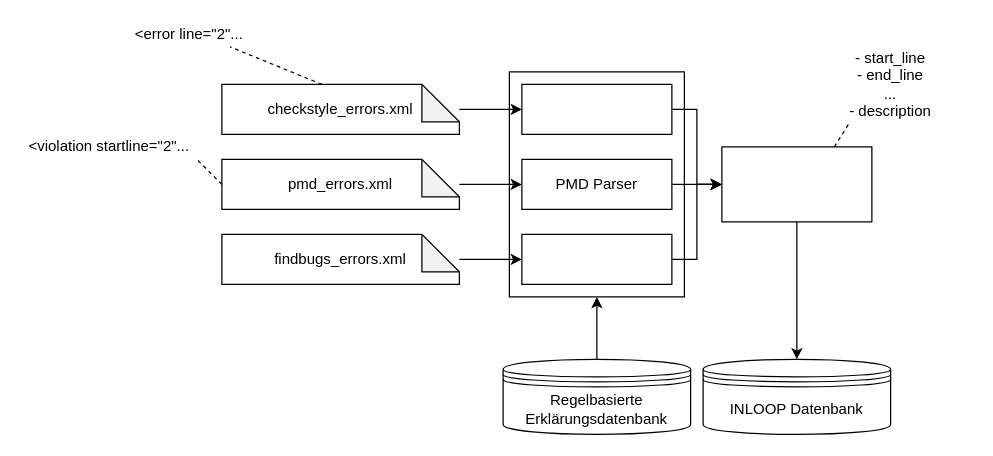
Some shapes in this 993 by 456 pixel diagram are drawn without their labels. Here are the shapes that lost their labels. From the top down, the centre of each, then its label:
At point (596, 108): "Checkstyle Parser".
At point (796, 184): "Standardisiertes Violation Set".
At point (596, 258): "FindBugs Parser".
